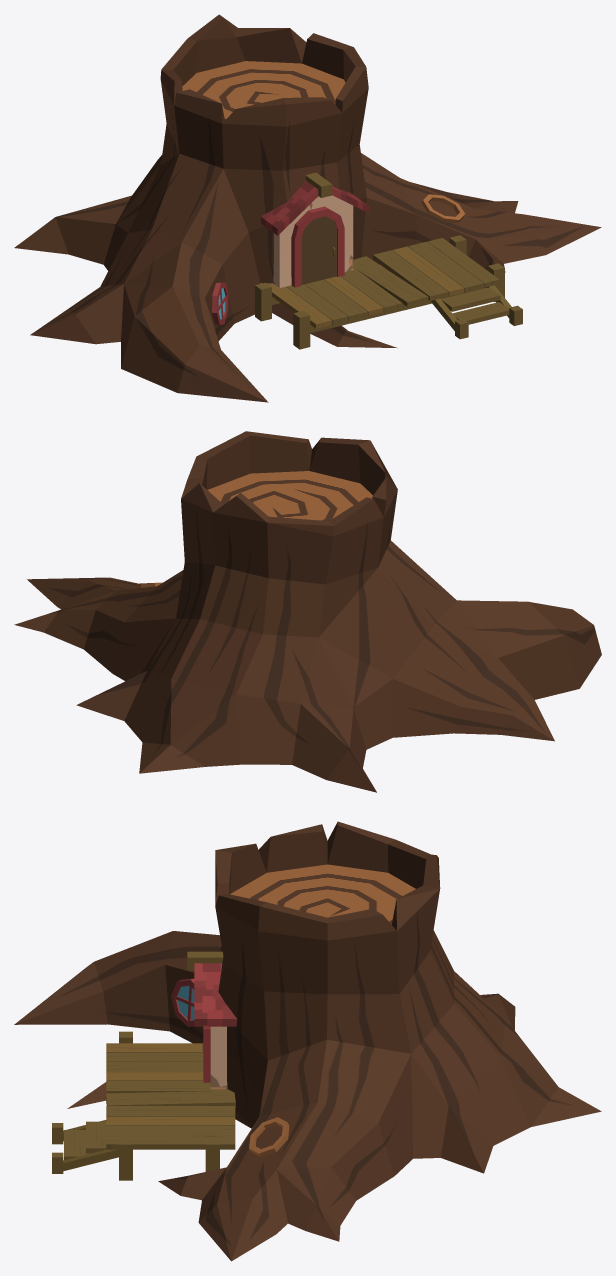
The model's file is Treehouse 01.fbx.
3 renders of one model, top to bottom at view 1: azimuth 30°, elevation 25°; view 2: azimuth 150°, elevation 25°; view 3: azimuth 270°, elevation 25°, orthographic. The views are drawn at different scales.
Parts seen in each view (by area): view 1: Treehouse_01, Door; view 2: Treehouse_01; view 3: Treehouse_01.
Part boxes in pixels (x1,y1,x2,y2): Treehouse_01: (14,14,601,402); Door: (301,216,336,284); Treehouse_01: (14,431,601,792); Treehouse_01: (14,821,601,1261).
Bounding box in the file's own units: 1993 × 768 × 1666.
